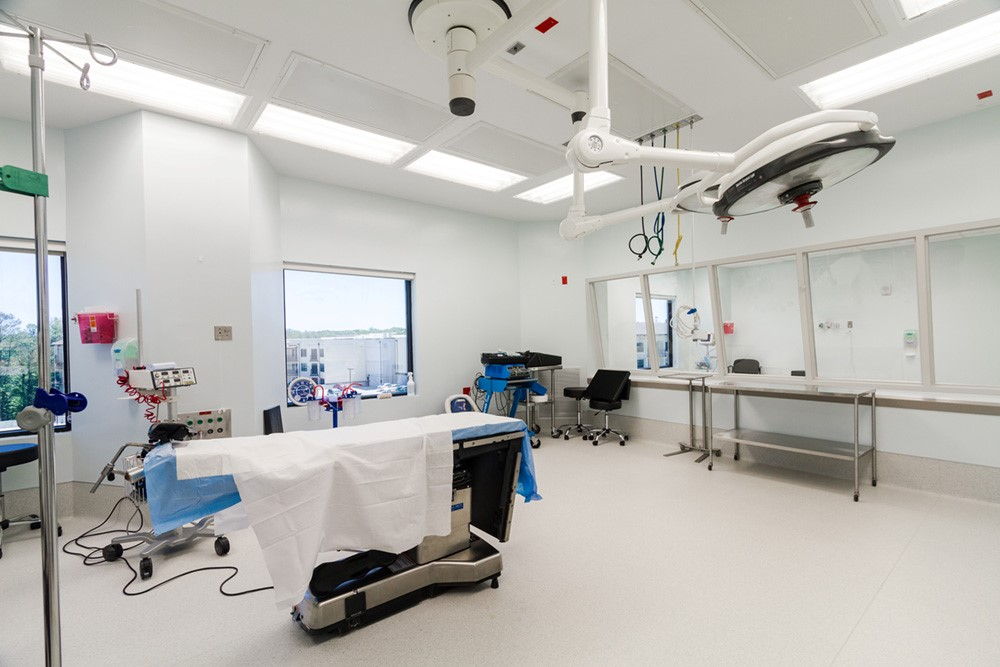chair: (1, 435, 62, 540), (588, 392, 630, 447), (562, 385, 597, 441), (727, 359, 761, 375)
dispenser: (111, 337, 138, 377)
electrosurgical_unit: (484, 364, 530, 380)
iv_pole: (1, 8, 118, 667)
medical_waste_container: (77, 306, 117, 346)
operating_bed: (144, 409, 529, 635)
surgical_light: (712, 122, 896, 234)
utility_cart: (706, 379, 877, 503), (663, 374, 712, 463), (506, 365, 563, 439)
